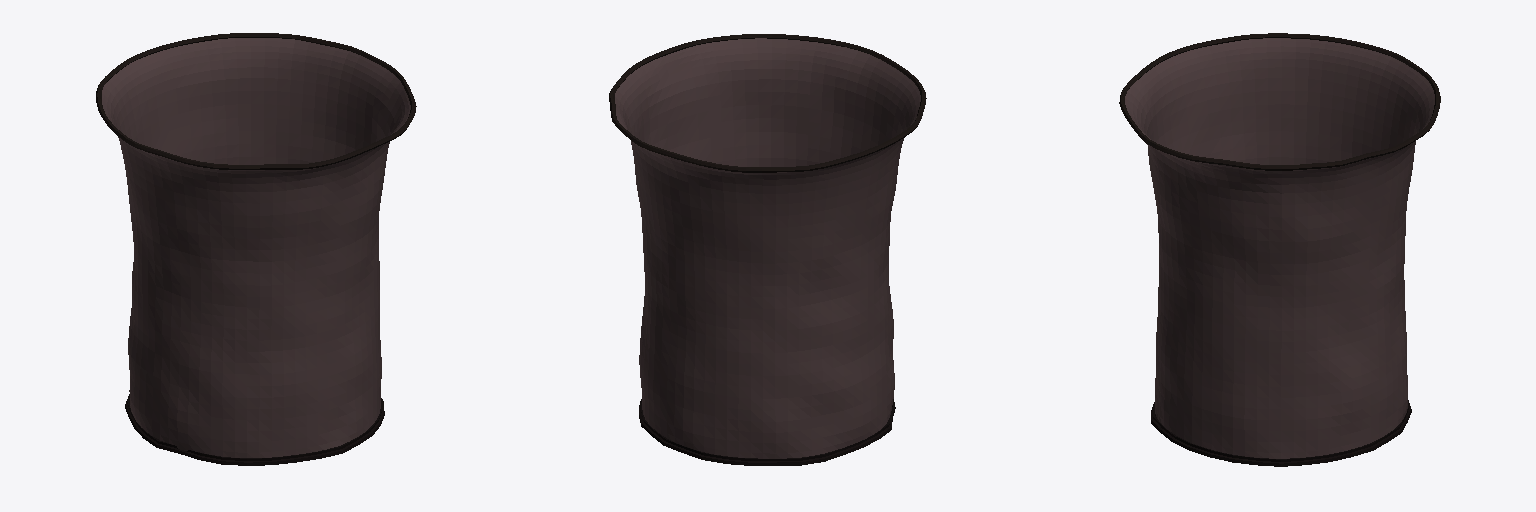
The model's file is trash.obj.
The picture shows the model from 3 angles: view 1: azimuth 30°, elevation 25°; view 2: azimuth 150°, elevation 25°; view 3: azimuth 270°, elevation 25°; orthographic projection.
Parts seen in each view (by area): view 1: Cylinder.057, Cylinder, Cylinder.056; view 2: Cylinder.057, Cylinder, Cylinder.056; view 3: Cylinder.057, Cylinder, Cylinder.056.
Boxes of the visible parts, x1=… form: Cylinder.057: x1=102, y1=38, x2=410, y2=457; Cylinder: x1=96, y1=33, x2=416, y2=169; Cylinder.056: x1=125, y1=394, x2=384, y2=465; Cylinder.057: x1=615, y1=38, x2=920, y2=458; Cylinder: x1=609, y1=34, x2=926, y2=172; Cylinder.056: x1=639, y1=399, x2=895, y2=465; Cylinder.057: x1=1125, y1=38, x2=1434, y2=458; Cylinder: x1=1119, y1=33, x2=1440, y2=170; Cylinder.056: x1=1151, y1=400, x2=1411, y2=466.
Bounding box in the file's own units: 0.398 × 0.4325 × 0.402.